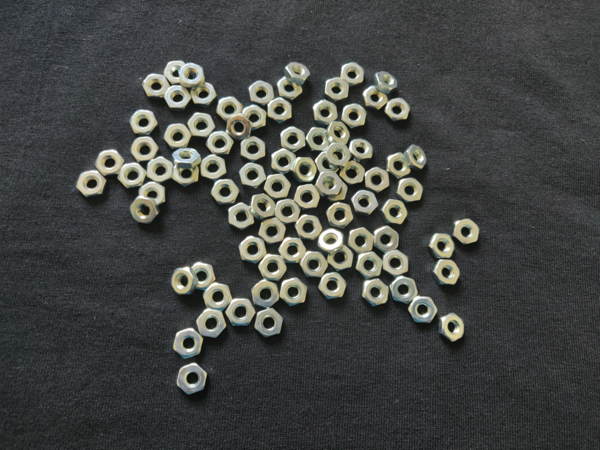nut: (177, 363, 209, 395), (429, 259, 462, 289), (314, 273, 348, 302), (248, 280, 279, 311), (235, 234, 266, 265), (173, 328, 205, 358), (196, 309, 226, 340), (128, 135, 161, 163), (390, 276, 417, 310), (224, 297, 254, 327), (256, 306, 284, 338), (280, 278, 309, 308), (408, 297, 438, 326), (381, 196, 407, 229), (129, 197, 158, 226), (382, 249, 411, 278), (93, 150, 124, 177), (257, 256, 289, 282), (220, 114, 252, 140), (422, 234, 456, 258), (397, 177, 426, 205), (203, 283, 231, 312), (298, 252, 327, 280), (228, 203, 256, 232), (146, 156, 175, 184), (209, 180, 239, 207), (440, 312, 465, 344), (129, 108, 158, 135), (342, 101, 369, 130), (363, 279, 390, 308), (203, 131, 232, 158), (238, 162, 266, 189), (265, 97, 292, 125), (372, 226, 400, 253), (365, 167, 392, 195), (76, 171, 105, 197), (262, 173, 291, 199), (296, 212, 322, 241), (350, 189, 379, 215), (257, 218, 287, 243), (114, 165, 148, 187), (161, 86, 192, 110), (454, 218, 481, 245), (200, 155, 227, 182), (322, 177, 349, 204), (347, 229, 375, 255), (278, 126, 306, 152), (161, 123, 190, 148), (326, 203, 355, 228), (172, 267, 197, 295), (356, 253, 385, 277), (329, 245, 355, 271), (294, 184, 320, 210), (142, 73, 169, 98), (217, 96, 242, 123), (277, 73, 302, 100), (341, 103, 366, 130), (312, 151, 340, 175), (141, 181, 165, 208), (279, 239, 307, 262), (248, 195, 276, 218), (312, 97, 335, 125), (384, 99, 409, 124), (349, 136, 374, 161), (242, 136, 266, 162), (179, 62, 205, 86), (188, 113, 214, 137), (248, 82, 274, 106), (244, 106, 270, 130), (319, 226, 343, 252), (327, 143, 351, 169), (305, 126, 328, 153), (315, 172, 343, 194), (275, 200, 300, 224), (194, 263, 217, 289), (284, 59, 310, 82), (160, 62, 187, 84), (325, 75, 349, 99), (386, 153, 410, 177), (174, 164, 200, 186), (272, 147, 294, 173), (294, 156, 316, 182), (342, 162, 364, 188), (341, 62, 364, 86), (374, 70, 396, 93), (172, 148, 200, 166), (192, 84, 216, 105), (362, 85, 383, 109), (330, 122, 350, 143), (409, 146, 426, 169)
